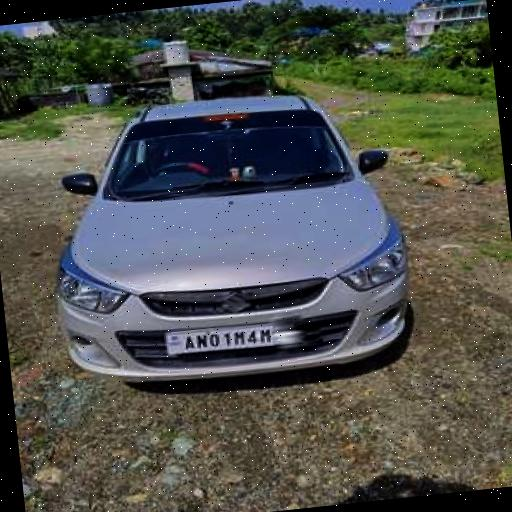license_plate`: (160, 320, 273, 354)
